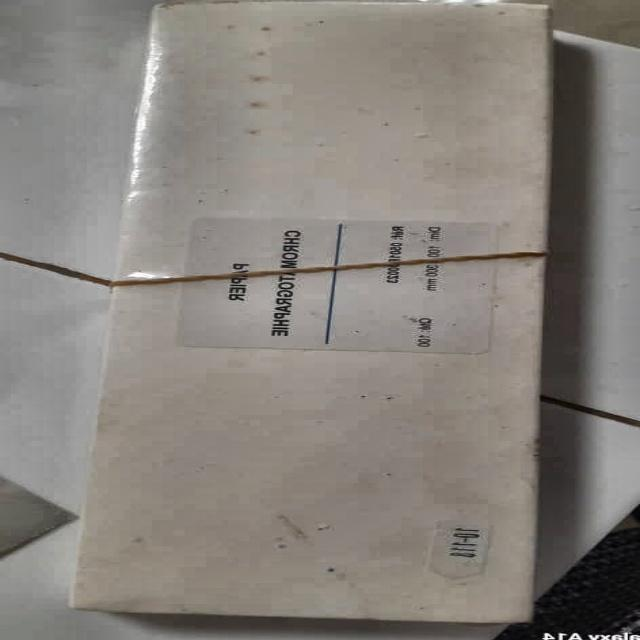Paper Chromatography: (100, 6, 538, 620)
